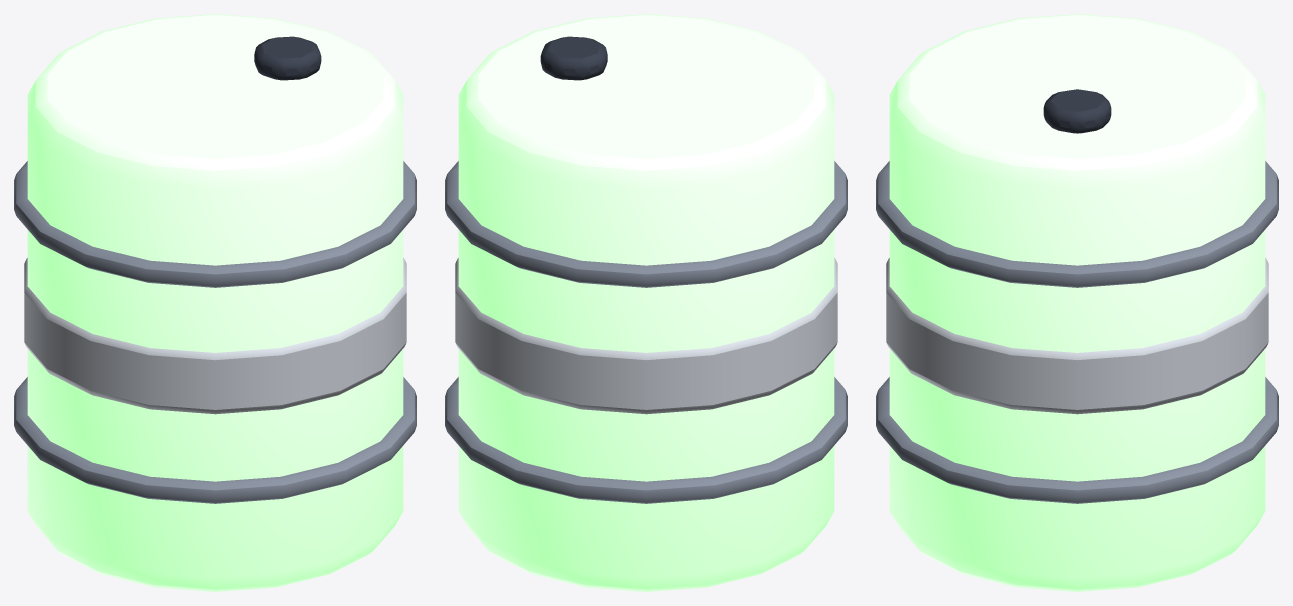
Rendered from ware_brennstab.fbx.
3 views of the same model, side by side, from view 1: azimuth 30°, elevation 25°; view 2: azimuth 150°, elevation 25°; view 3: azimuth 270°, elevation 25° (orthographic).
Visible parts, largest first — view 1: ware_brennstab_Koerper; view 2: ware_brennstab_Koerper; view 3: ware_brennstab_Koerper.
Part boxes in pixels (bbox=[...]): ware_brennstab_Koerper: bbox=[14, 14, 416, 591]; ware_brennstab_Koerper: bbox=[445, 14, 847, 591]; ware_brennstab_Koerper: bbox=[876, 14, 1278, 591].
Bounding box in the file's own units: 0.3432 × 0.42 × 0.338.
